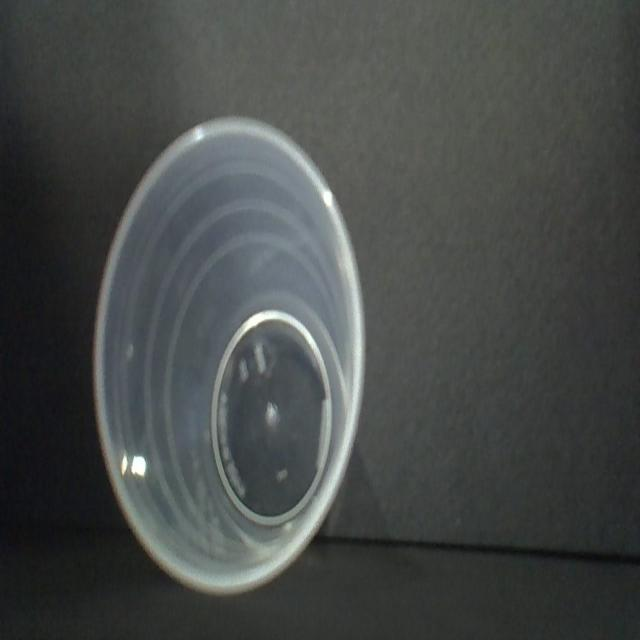cup: (90, 106, 370, 599)
